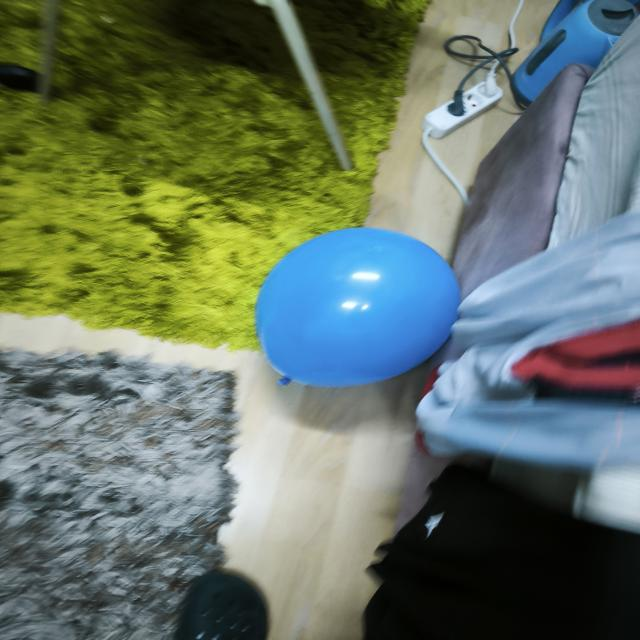balloon: (255, 228, 460, 387)
